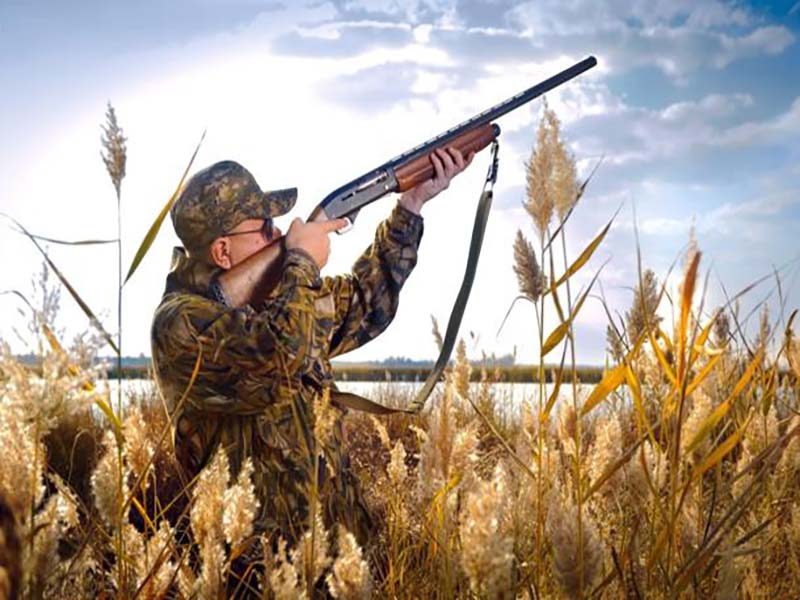cacciatore: (164, 52, 612, 537)
fucile: (208, 54, 611, 314)
